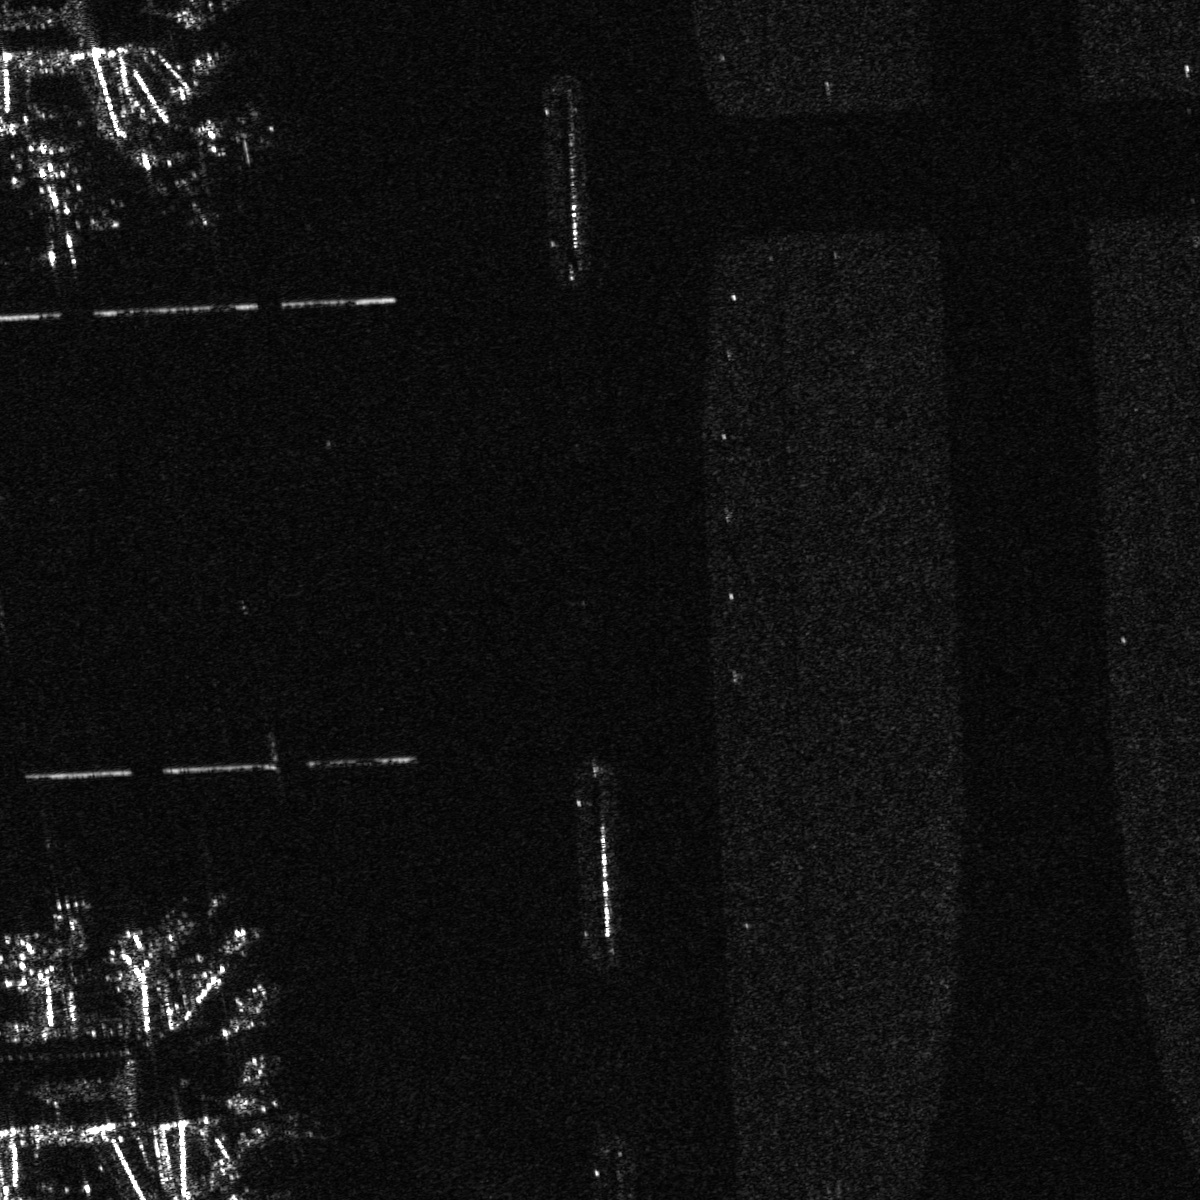A320/321: (14, 155, 111, 266), (41, 893, 97, 945)
Boeing737: (151, 148, 221, 234)
